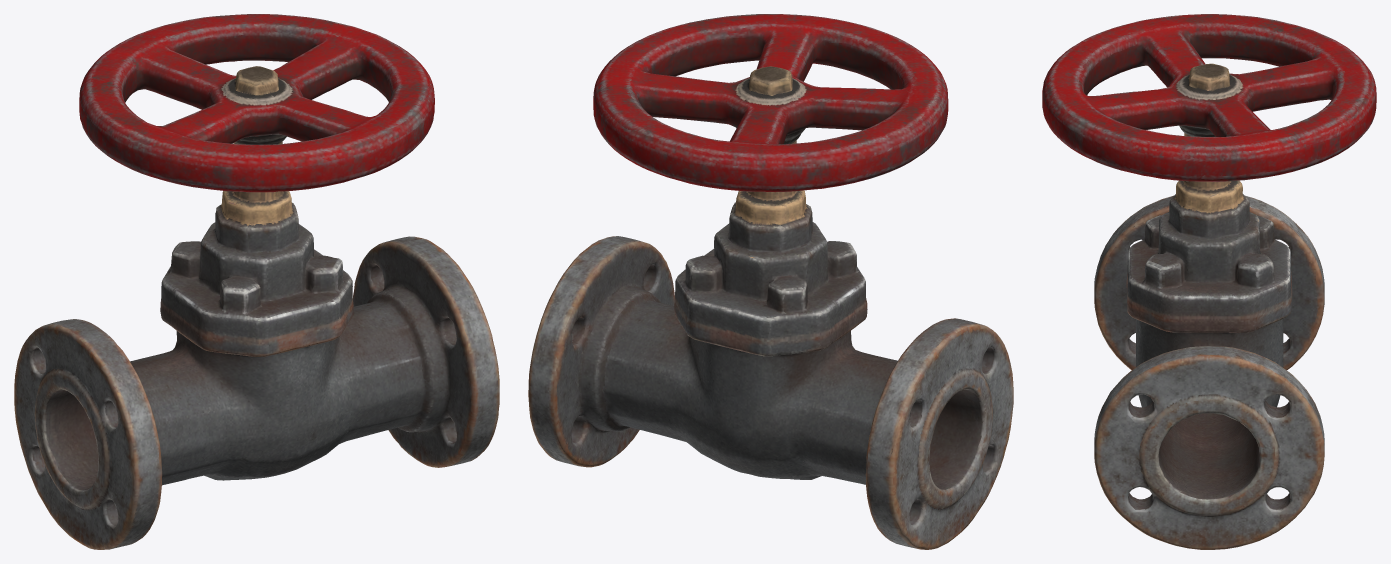
File: raw.glb
The picture shows the model from 3 angles, left to right: view 1: azimuth 30°, elevation 25°; view 2: azimuth 150°, elevation 25°; view 3: azimuth 270°, elevation 25°; orthographic projection. The views are drawn at different scales.
Bounding box in the file's own units: 0.9357 × 1.01 × 0.7699.
Materials: 1 (1 with a texture image).
